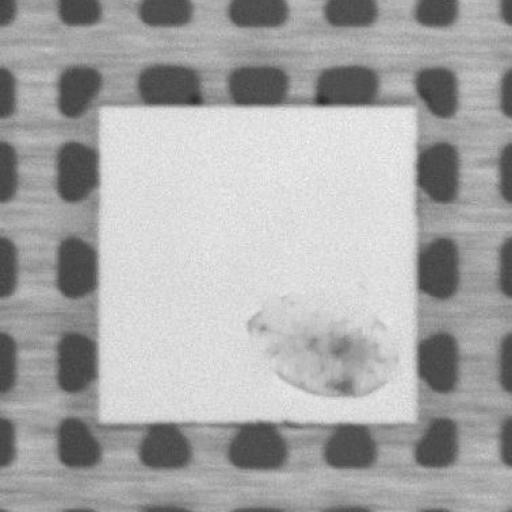DIE_INK: (242, 288, 398, 394)
